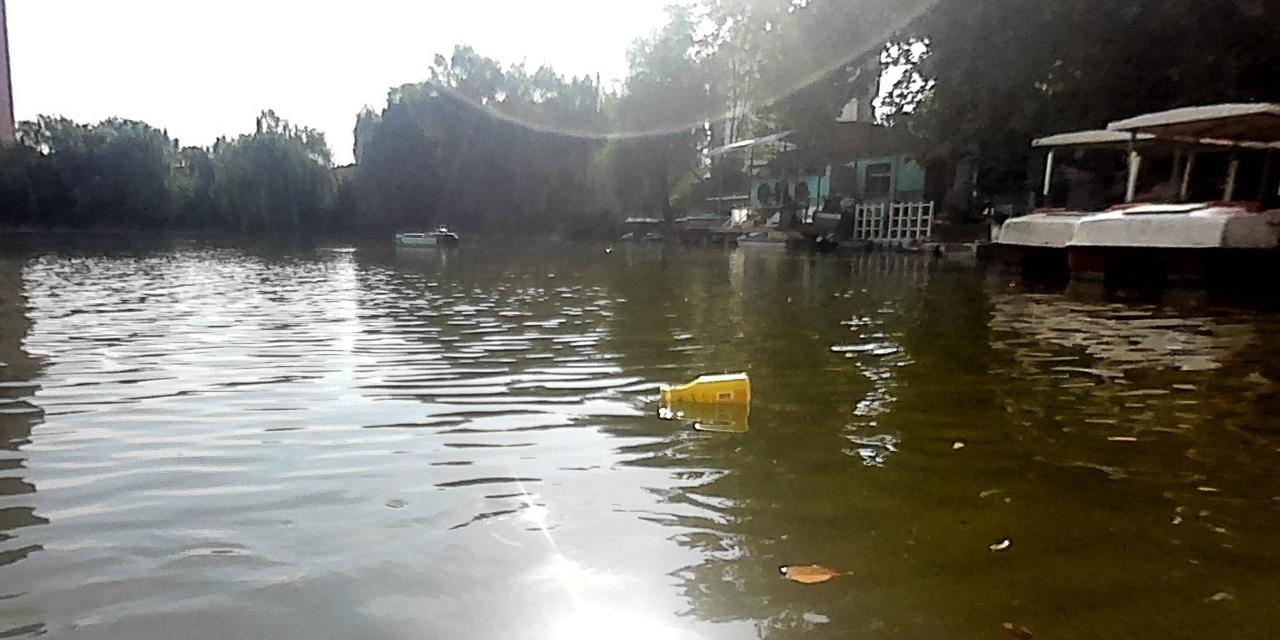bottle: (659, 371, 752, 407)
